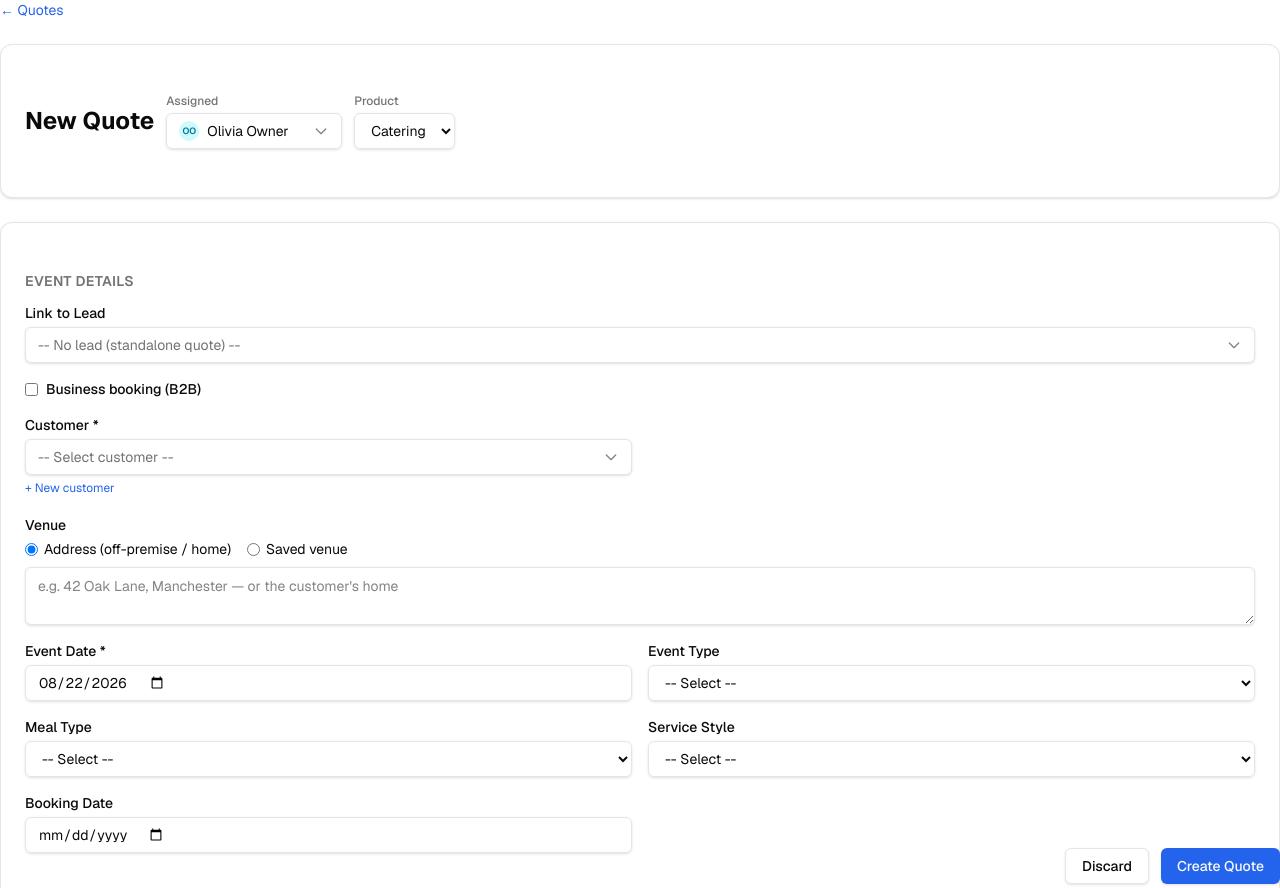
Test case: Quote create — guest split, timeline, meals reach the payload › refuses a B2B quote with no business
Click the button labelled "-- Select customer --" at point(106, 457), box left=25, top=439, right=632, bottom=475
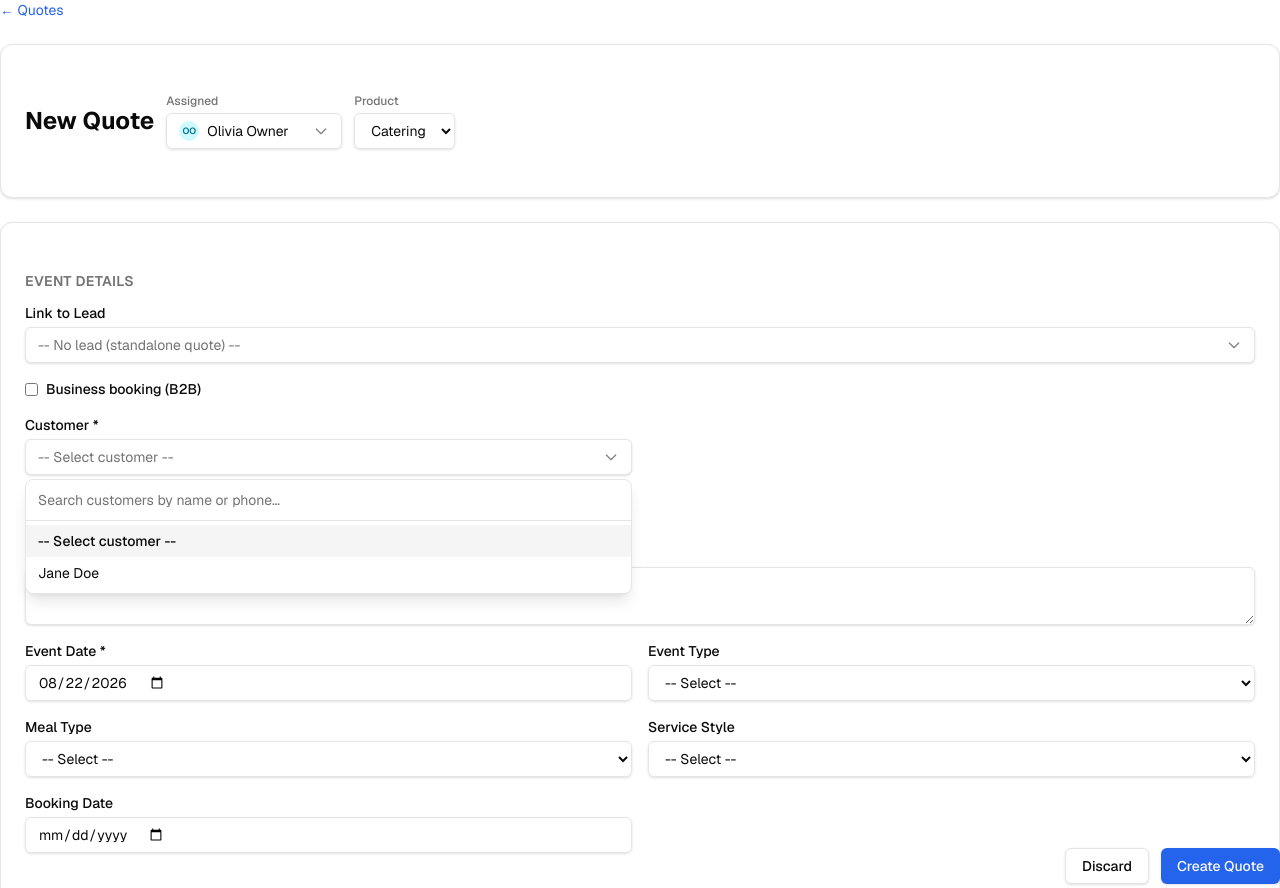
Click the option "Jane Doe" at point(68, 573), box left=26, top=557, right=631, bottom=589
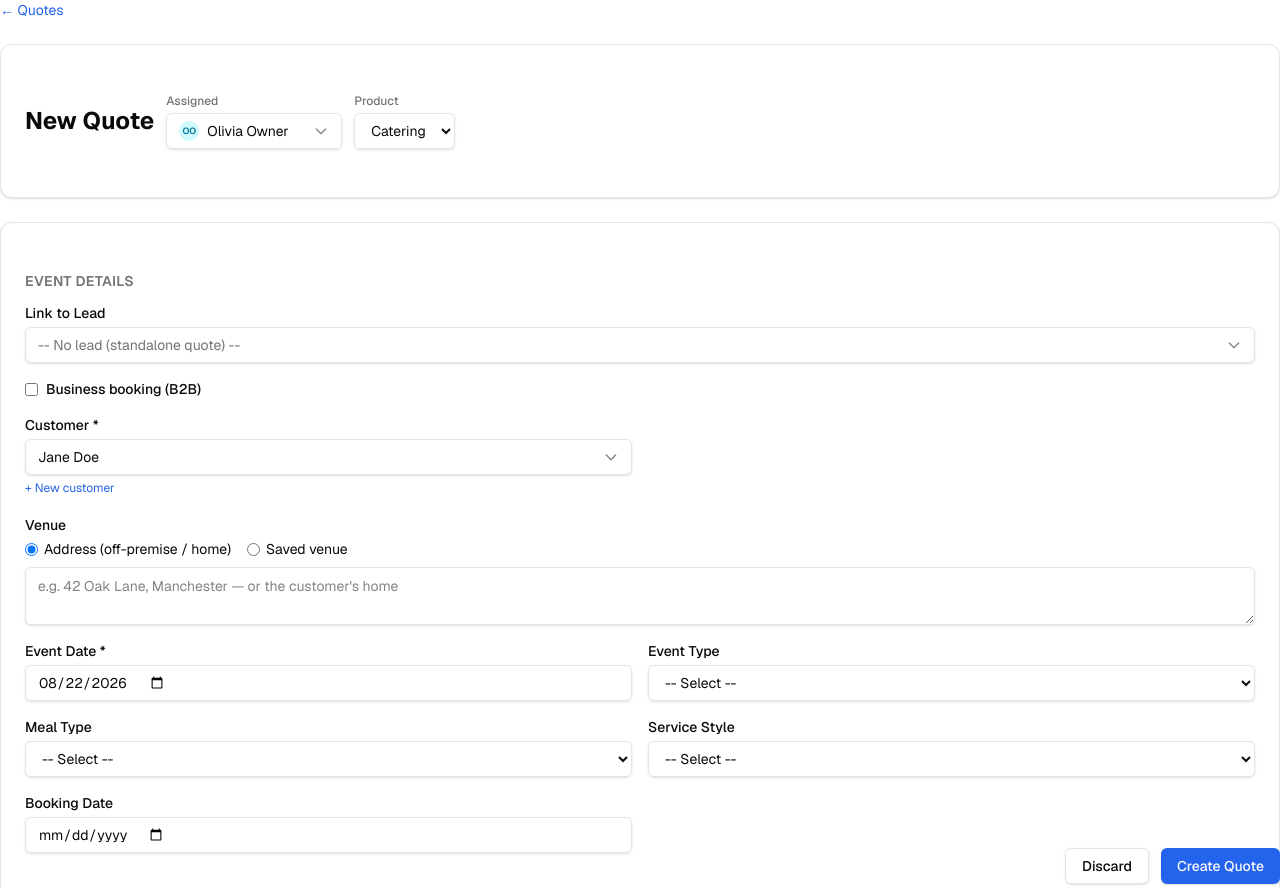
Click the checkbox labelled "Business booking (B2B)" at point(32, 389), box left=25, top=382, right=38, bottom=396
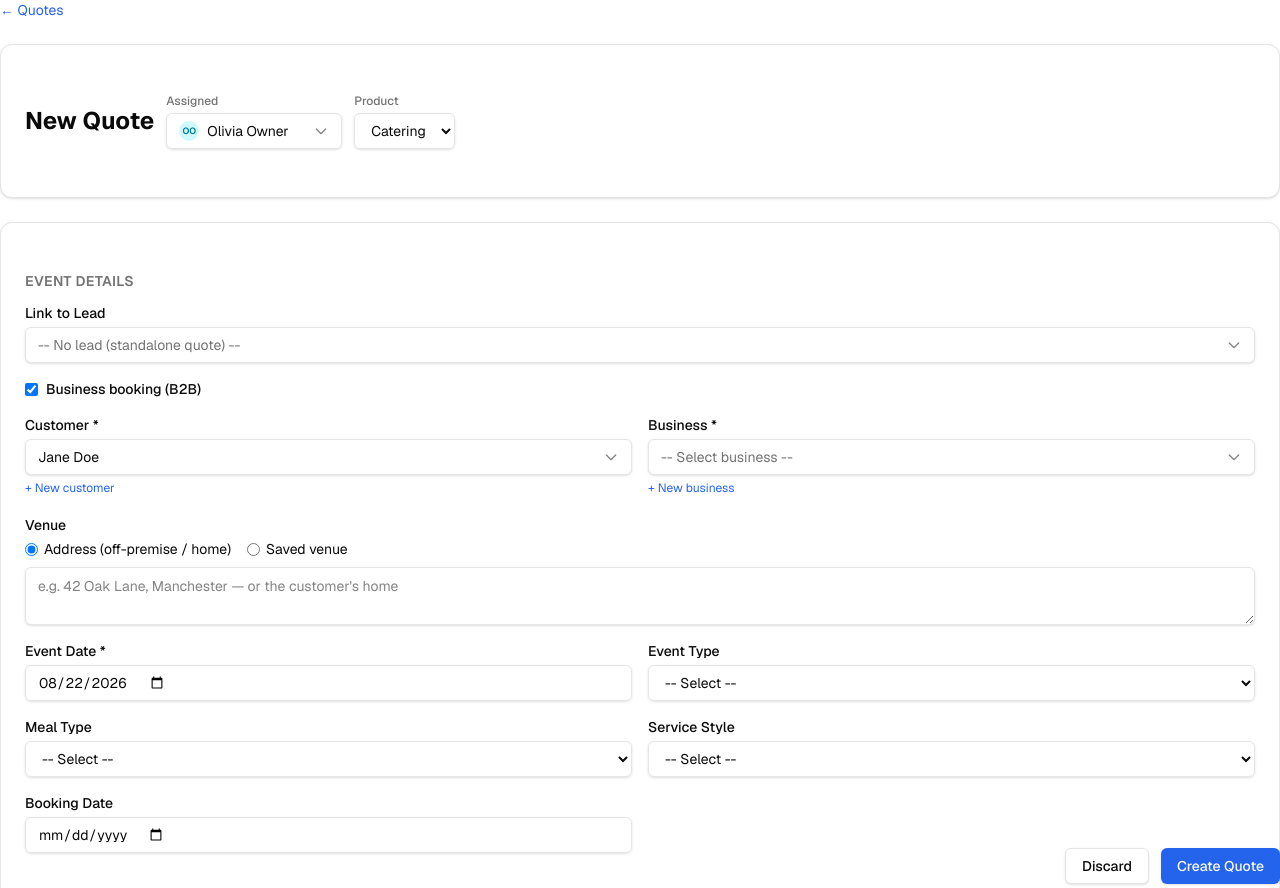
Click the button "Create Quote" at point(1220, 866), box left=1161, top=848, right=1279, bottom=884
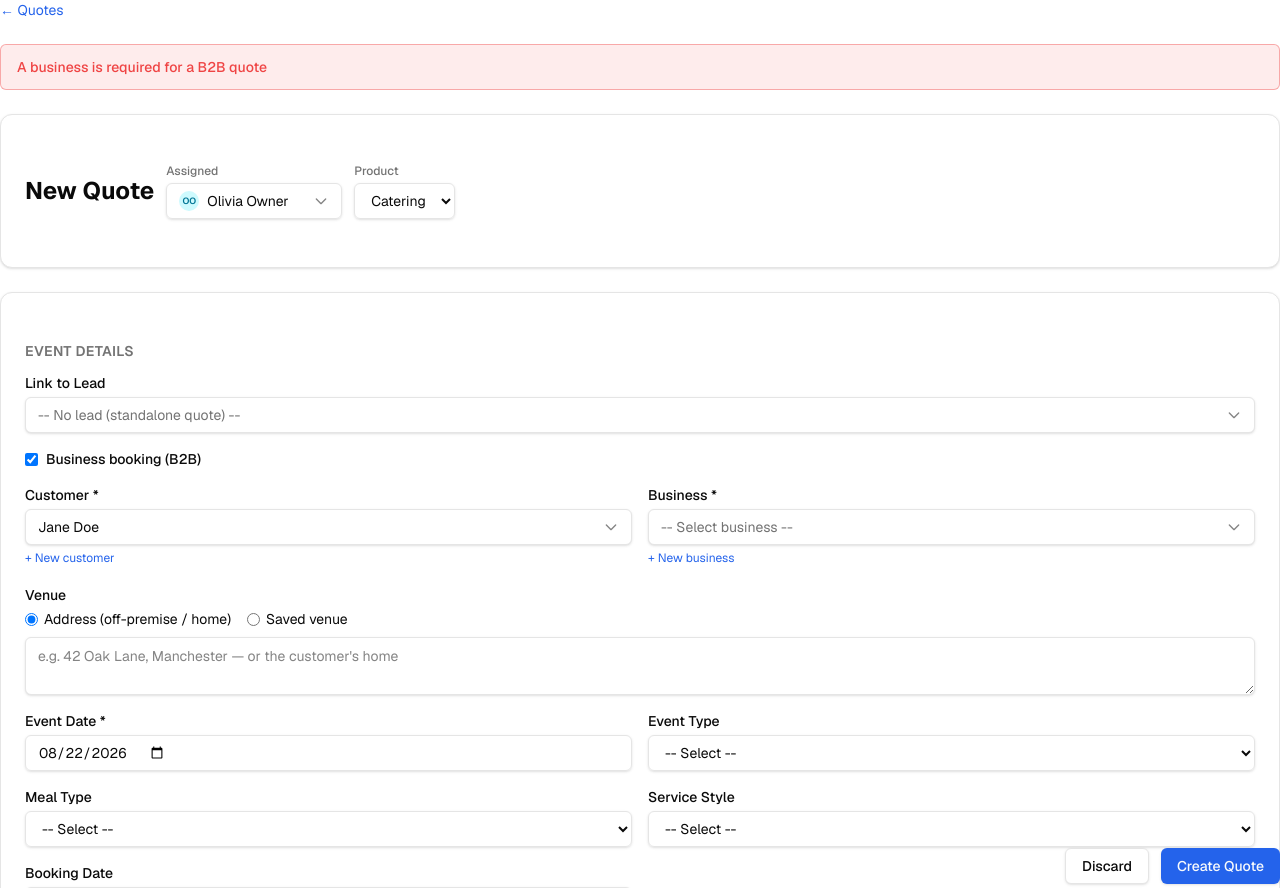
expect the text "A business is required for a B2B quote" is shown: met, box left=0, top=44, right=1279, bottom=90
